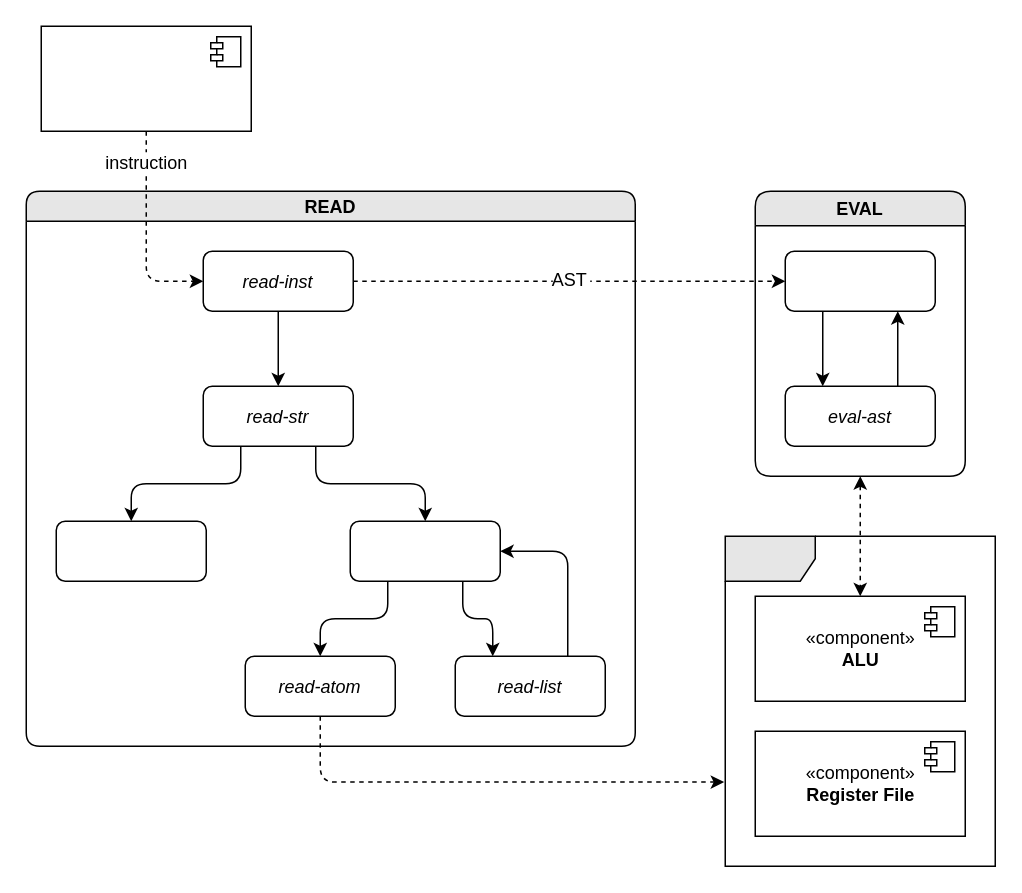
This 1022x893 diagram has some shape labels left out. Each missing label, with the box of its shape:
ENV: (724, 535, 995, 866)
eval-token: (784, 250, 935, 311)
read-token: (349, 520, 500, 581)
tokenize: (55, 520, 206, 581)
«component» Text Memory: (40, 25, 251, 131)
